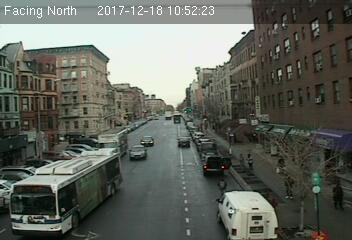bus: (8, 149, 122, 234)
car: (203, 154, 224, 175), (128, 145, 146, 159), (178, 136, 191, 148), (141, 135, 154, 146)
pedestrian: (333, 181, 343, 211)
truck: (217, 189, 279, 238), (97, 128, 130, 155)
